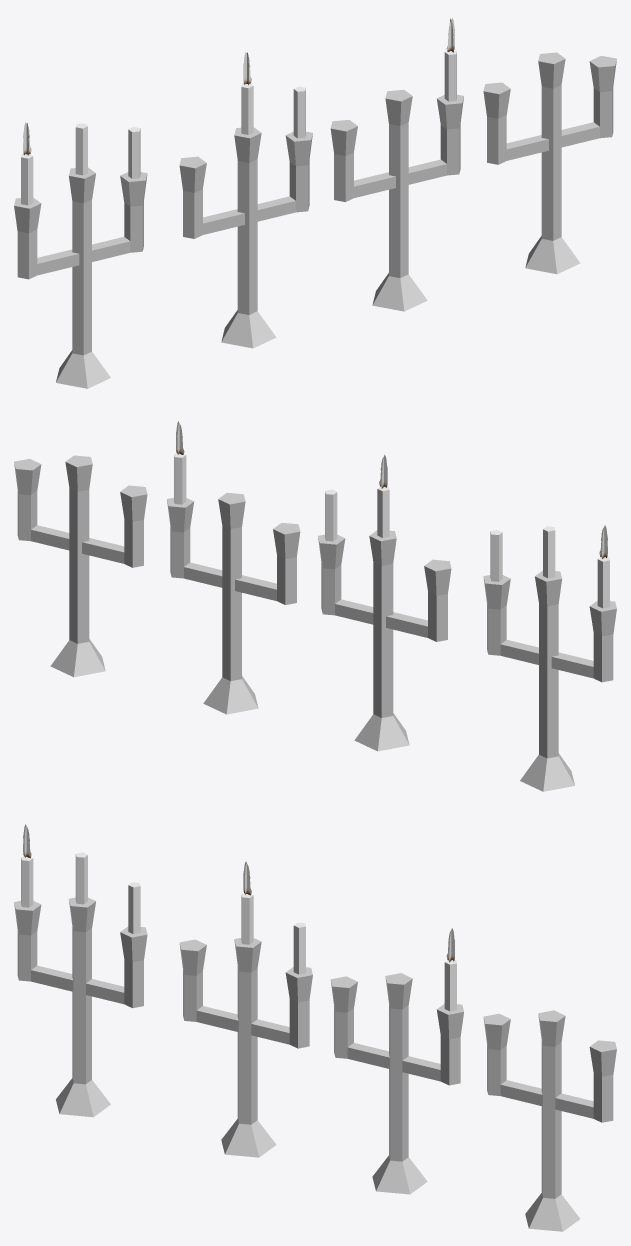
File: Candles.fbx
The picture shows the model from 3 angles, top to bottom: view 1: azimuth 30°, elevation 25°; view 2: azimuth 150°, elevation 25°; view 3: azimuth 330°, elevation 25°; orthographic projection.
Visible parts, largest first — view 1: Candle.006, Candle.007, Candle.008, Candle.009; view 2: Candle.006, Candle.007, Candle.008, Candle.009; view 3: Candle.006, Candle.007, Candle.008, Candle.009.
Boxes of the visible parts, x1,y1,x2,y2 form: Candle.006: (14,122,147,388); Candle.007: (179,52,312,348); Candle.008: (330,18,463,311); Candle.009: (483,52,616,274); Candle.006: (483,525,616,791); Candle.007: (318,454,451,751); Candle.008: (167,421,300,714); Candle.009: (14,455,147,677); Candle.006: (14,824,147,1117); Candle.007: (179,862,312,1157); Candle.008: (330,928,463,1194); Candle.009: (483,1010,616,1231).
Size of the model in its own units: 193 by 87.73 by 15.72.
